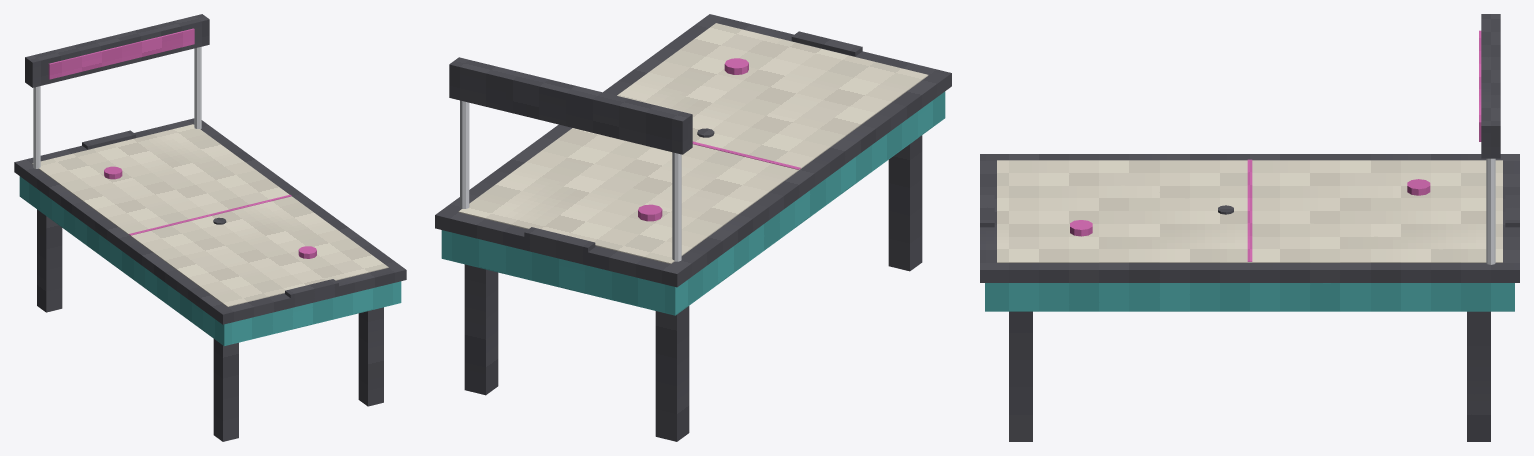
File: three-d-retro-arcade-and-mall-1989-retro-arcade-and-mall-1989-air-hockey-table-36f1c7d3.glb
3 views of the same model, side by side, from view 1: azimuth 30°, elevation 25°; view 2: azimuth 150°, elevation 25°; view 3: azimuth 270°, elevation 25° (orthographic). The views are drawn at different scales.
Parts seen in each view (by area): view 1: air-hockey-table; view 2: air-hockey-table; view 3: air-hockey-table.
Part boxes in pixels (<box>): air-hockey-table: <box>14,14,406,441</box>; air-hockey-table: <box>435,14,951,441</box>; air-hockey-table: <box>980,14,1519,441</box>.
Size of the model in its own units: 1.14 by 1.47 by 2.24.
5 materials, 4 textured.
